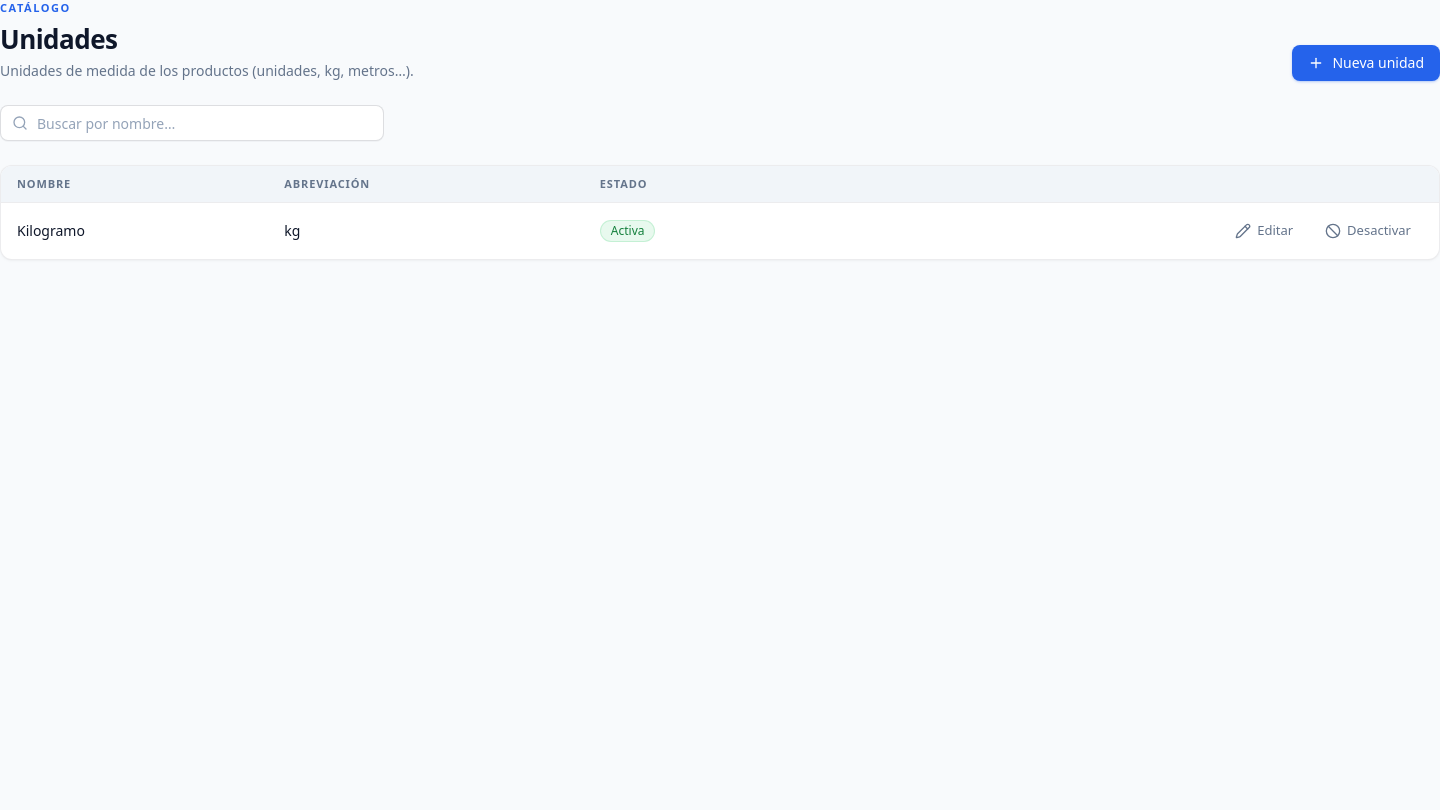
Test: UnitsPage › opens the edit modal pre-filled with the selected unit
The width and height of the screenshot is (1440, 810).
Click the button "Editar" at (1264, 231), box [1223, 215, 1305, 247]
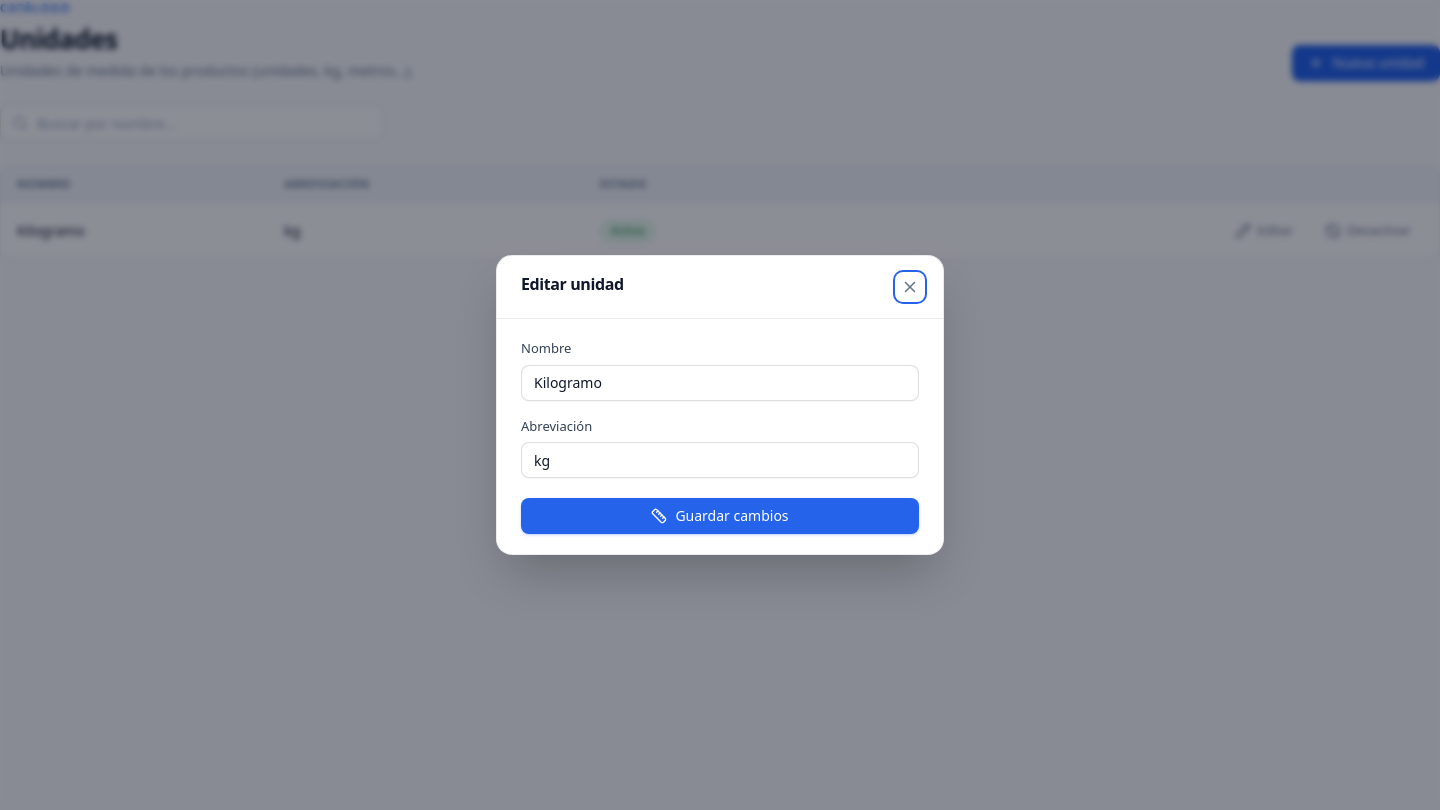
Check: the dialog "Editar unidad" is shown, box [496, 255, 944, 555]
Check: the field labelled "Abreviación" holds "kg", box [521, 442, 919, 478]
